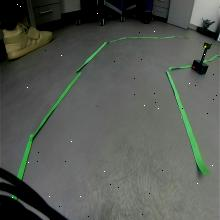green: (203, 42, 211, 50)
